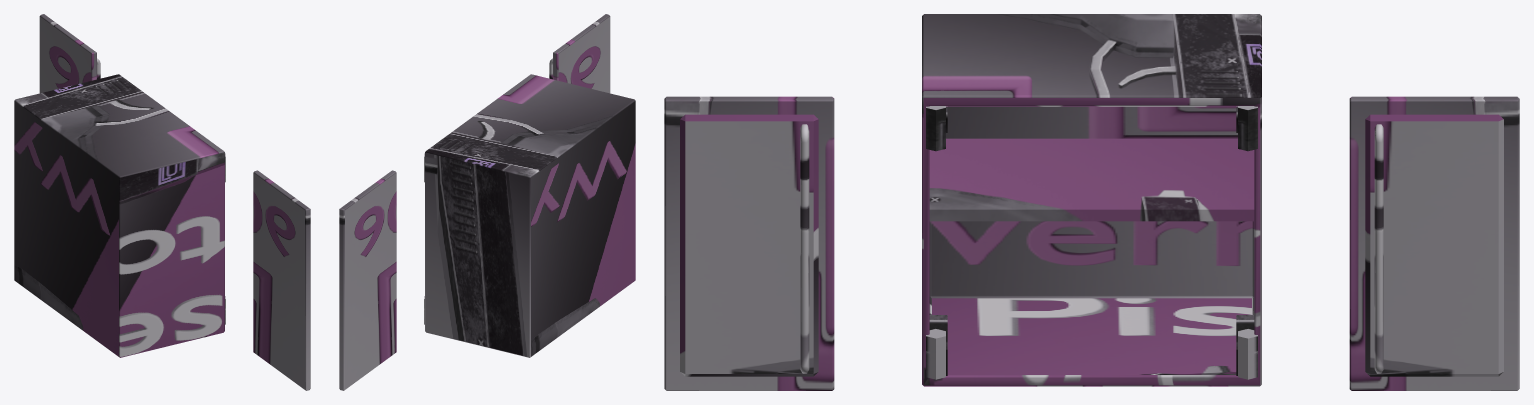
Rendered from SM_HorizontalMetalLockerEXPLODED.fbx.
3 renders of one model, left to right at view 1: azimuth 30°, elevation 25°; view 2: azimuth 150°, elevation 25°; view 3: azimuth 270°, elevation 25°, orthographic. The views are drawn at different scales.
Parts seen in each view (by area): view 1: Vertical Locker Base, Vertical Locker Door LEFT; view 2: Vertical Locker Base, Vertical Locker Door LEFT; view 3: Vertical Locker Base, Door Plating, Vertical Locker Door LEFT, Shelvs, Wall Clocker Door Knob, Hinges.
Part boxes in pixels (box(x1,y1,x2,y2)): Vertical Locker Base: box(14, 74, 224, 357); Vertical Locker Door LEFT: box(39, 14, 310, 390); Vertical Locker Base: box(425, 74, 635, 357); Vertical Locker Door LEFT: box(339, 14, 610, 390); Vertical Locker Base: box(922, 14, 1261, 386); Door Plating: box(680, 114, 1503, 376); Vertical Locker Door LEFT: box(664, 96, 1519, 390); Shelvs: box(929, 138, 1254, 221); Wall Clocker Door Knob: box(800, 124, 1383, 373); Hinges: box(926, 106, 1257, 379).
Size of the model in its own units: 53.01 by 199 by 75.
